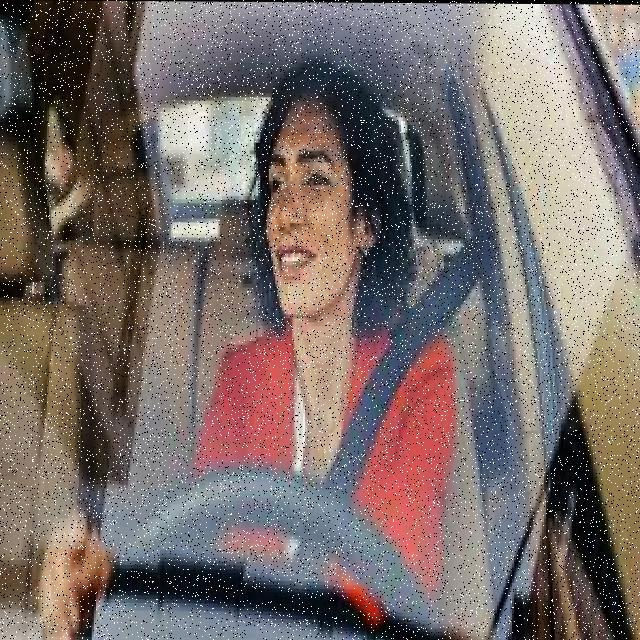seatbelt: (286, 192, 487, 516)
